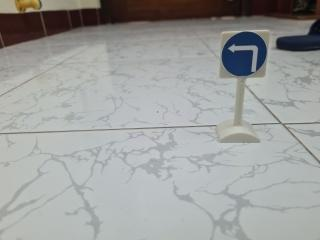left: (218, 28, 271, 83)
